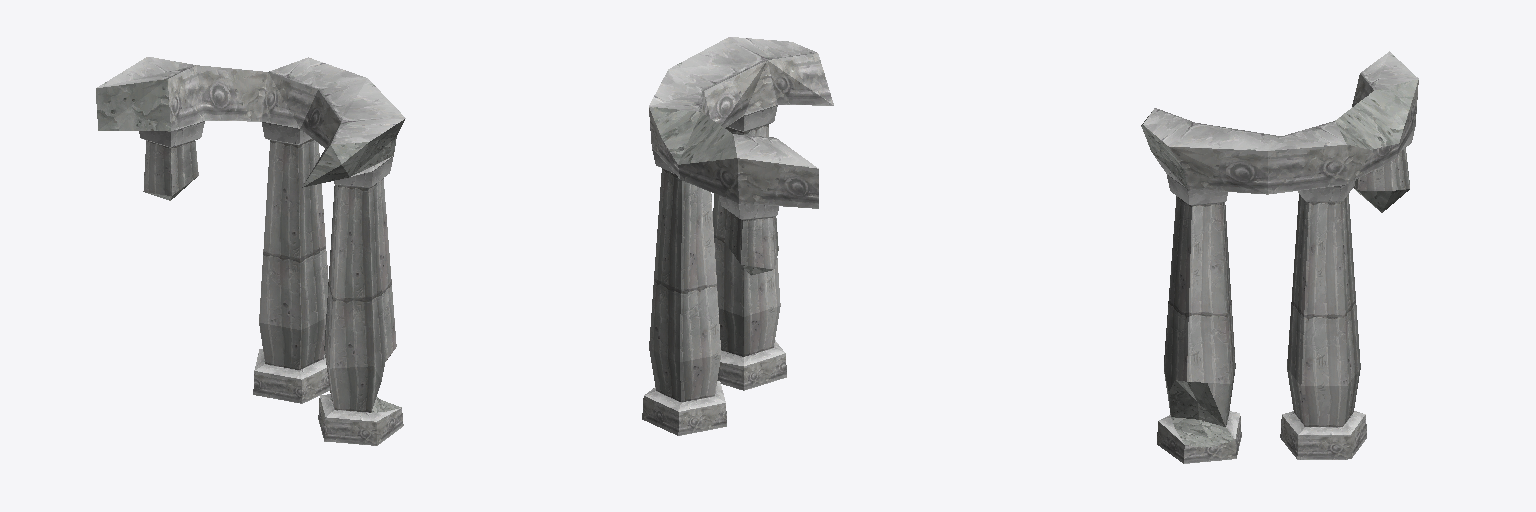
3 views of the same model, side by side, from view 1: azimuth 30°, elevation 25°; view 2: azimuth 150°, elevation 25°; view 3: azimuth 270°, elevation 25° (orthographic).
Visible parts, largest first — view 1: NewElfRuin01; view 2: NewElfRuin01; view 3: NewElfRuin01.
Part boxes in pixels (x1,y1,x2,y2): NewElfRuin01: (96,57,405,445); NewElfRuin01: (642,37,833,435); NewElfRuin01: (1141,51,1418,463).
Bounding box in the file's own units: 20.95 × 30.19 × 23.85.
Materials: 3 (3 with a texture image).